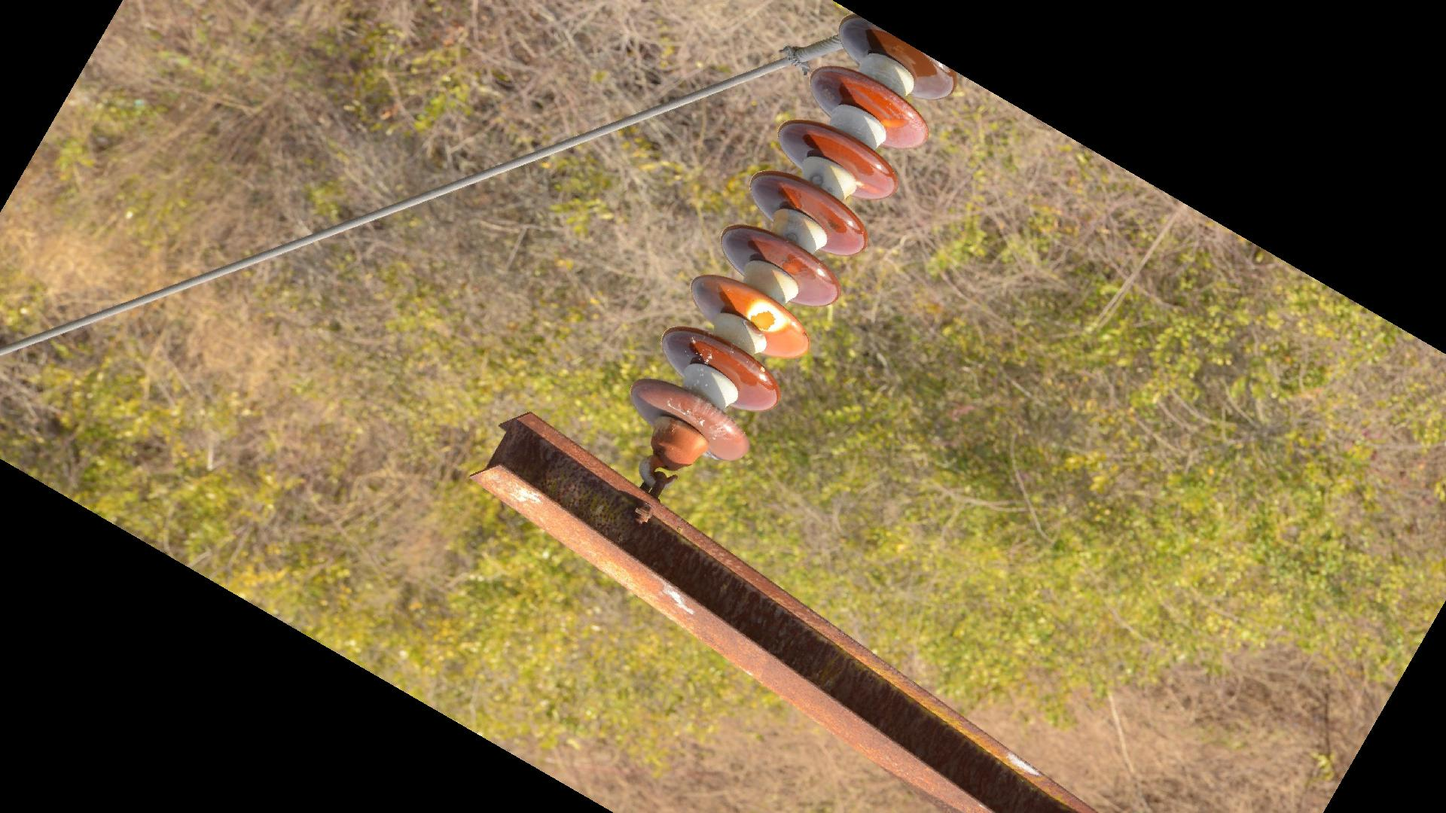insulator: (627, 11, 966, 468)
insulator_flashover: (746, 296, 791, 335), (879, 115, 910, 129)
